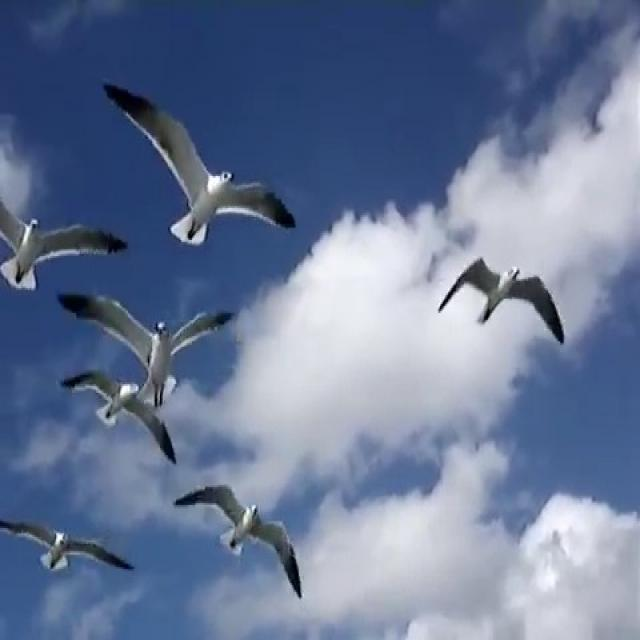bird: (104, 59, 304, 244), (55, 287, 237, 397), (165, 487, 310, 597), (0, 183, 129, 297), (435, 257, 567, 347), (62, 373, 191, 463), (0, 508, 134, 592)
